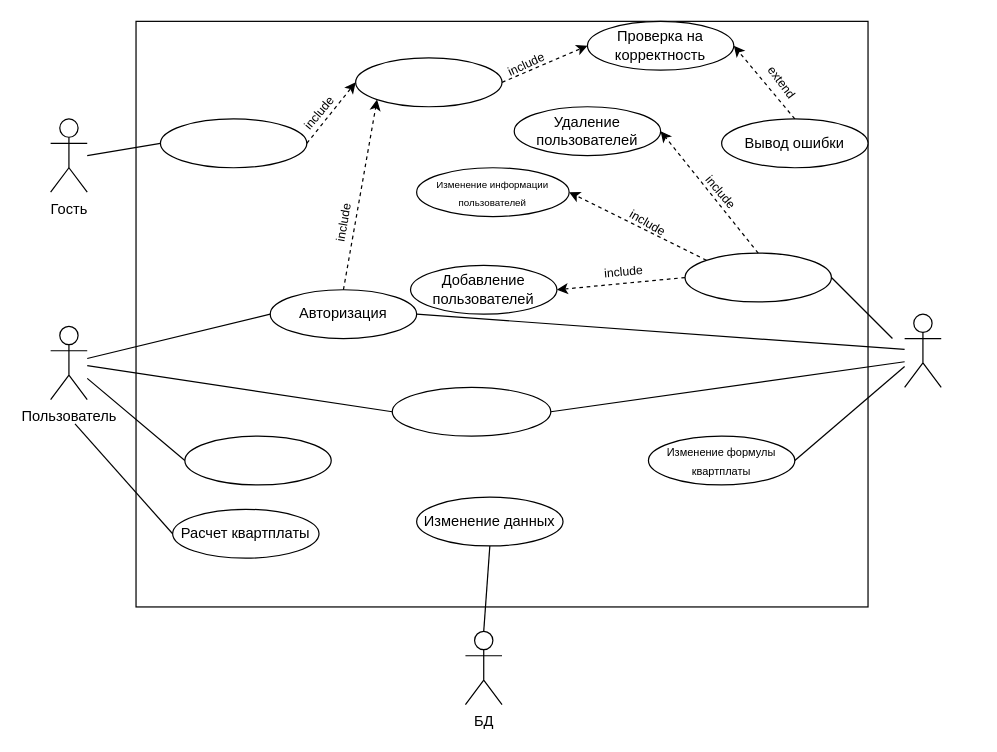
Image size: 997x752. Some labels were removed from this diagram. The shapes that lost their labels are listed below. From the top down, each one's box as (x1, y1, x2, y2) in pixels, then its label:
(354, 57, 502, 107): Ввод данных
(159, 118, 307, 168): Регистрация
(684, 252, 831, 302): Просмотр информации пользователей
(903, 313, 941, 387): Администратор
(391, 386, 551, 436): Просмотр информации о квартплате
(184, 435, 331, 485): Ввод данных счетчиков
